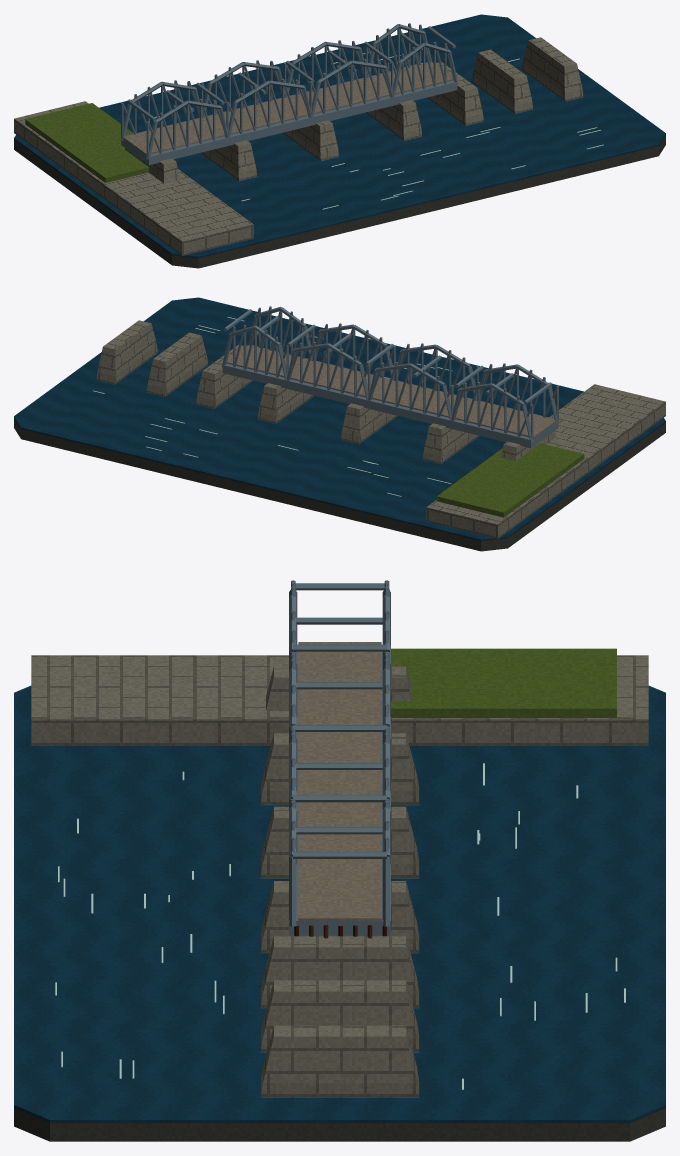
File: yalu-broken-bridge.glb
The picture shows the model from 3 angles, top to bottom: view 1: azimuth 30°, elevation 25°; view 2: azimuth 150°, elevation 25°; view 3: azimuth 270°, elevation 25°; orthographic projection. The views are drawn at different scales.
Visible parts, largest first — view 1: 鸭绿江断桥; view 2: 鸭绿江断桥; view 3: 鸭绿江断桥.
Boxes of the visible parts, <box> form: 鸭绿江断桥: <box>14,14,665,268</box>; 鸭绿江断桥: <box>14,297,665,551</box>; 鸭绿江断桥: <box>14,580,665,1141</box>.
Size of the model in its own units: 11.4 by 2.13 by 7.1.
Materials: 8 (6 with a texture image).
